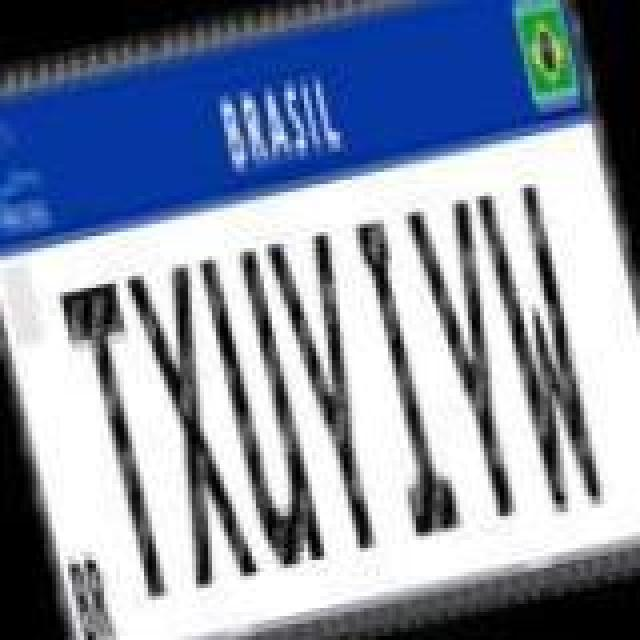I: (344, 208, 464, 540)
T: (56, 276, 188, 612)
U: (196, 240, 328, 580)
W: (476, 176, 612, 520)
X: (126, 258, 262, 594)
Y: (262, 222, 398, 562), (404, 192, 540, 532)
